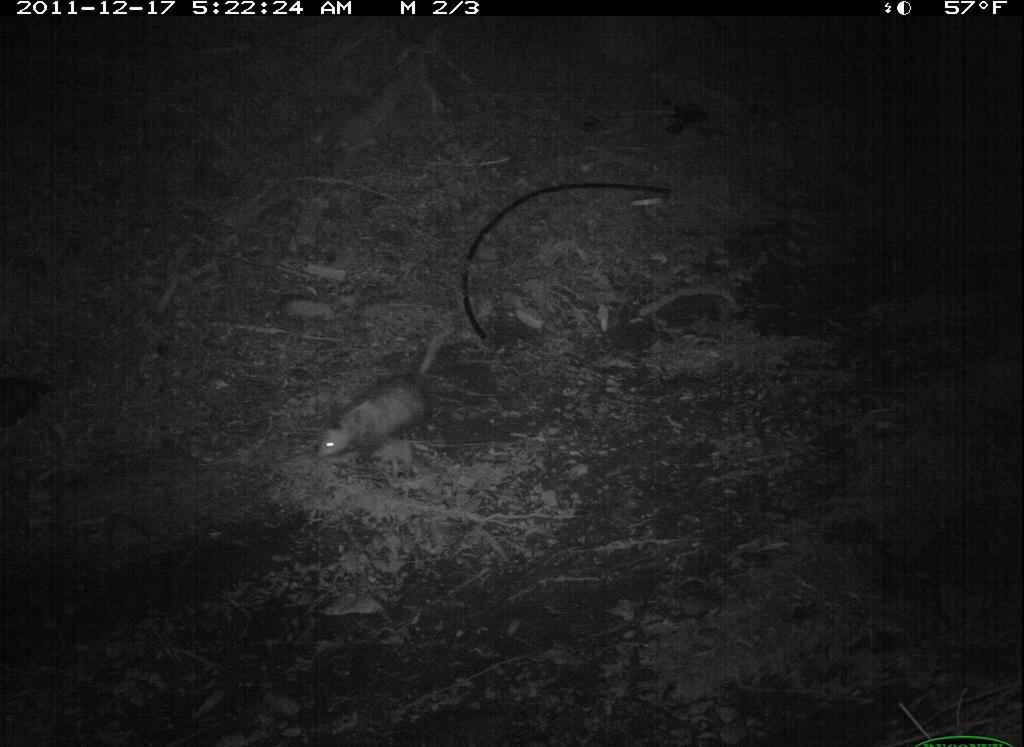opossum: (310, 358, 463, 466)
